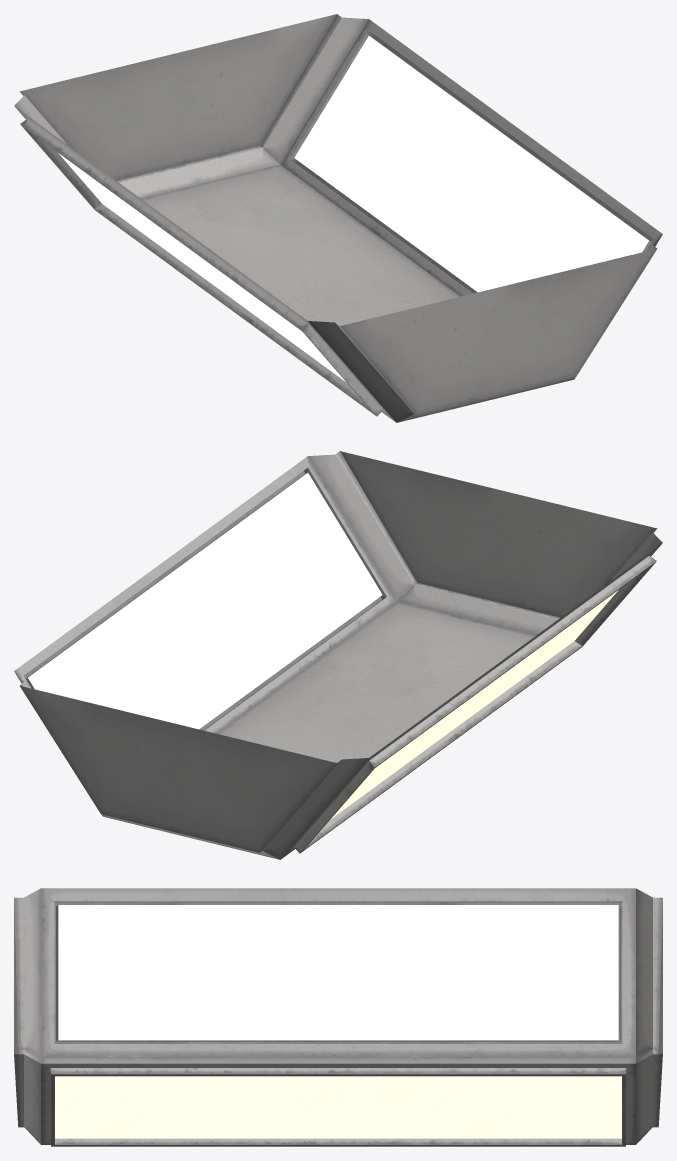
The model's file is hanginglight.glb.
The picture shows the model from 3 angles, top to bottom: view 1: azimuth 30°, elevation 25°; view 2: azimuth 150°, elevation 25°; view 3: azimuth 270°, elevation 25°; orthographic projection.
Visible parts, largest first — view 1: SM_overhead_light; view 2: SM_overhead_light; view 3: SM_overhead_light.
Boxes of the visible parts, x1,y1,x2,y2 form: SM_overhead_light: (14, 14, 662, 422); SM_overhead_light: (14, 451, 662, 859); SM_overhead_light: (14, 888, 662, 1146).
Bounding box in the file's own units: 0.8311 × 0.2769 × 1.3.
1 material, 1 textured.
